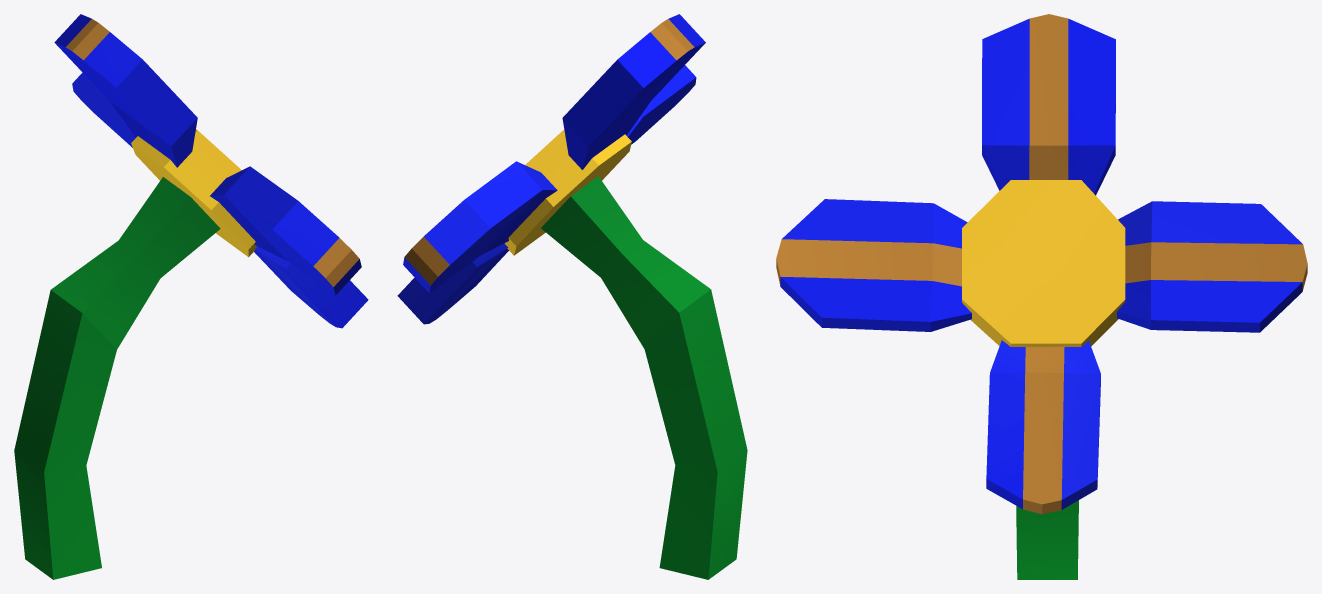
The model's file is FLORESRECOGER7.fbx.
The picture shows the model from 3 angles, left to right: view 1: azimuth 30°, elevation 25°; view 2: azimuth 150°, elevation 25°; view 3: azimuth 270°, elevation 25°; orthographic projection. The views are drawn at different scales.
Parts seen in each view (by area): view 1: Cube.003; view 2: Cube.003; view 3: Cube.003.
Boxes of the visible parts, <box> form: Cube.003: <box>14,14,368,579</box>; Cube.003: <box>397,14,747,579</box>; Cube.003: <box>776,14,1307,579</box>.
Bounding box in the file's own units: 1330 × 2083 × 1754.
